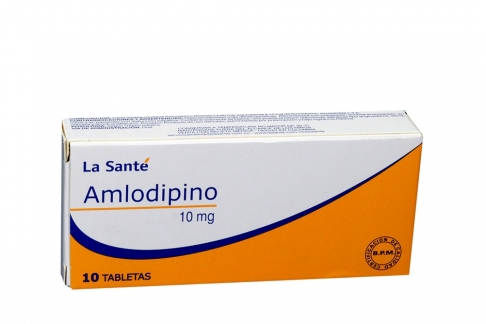LaSante: (71, 143, 409, 287)
